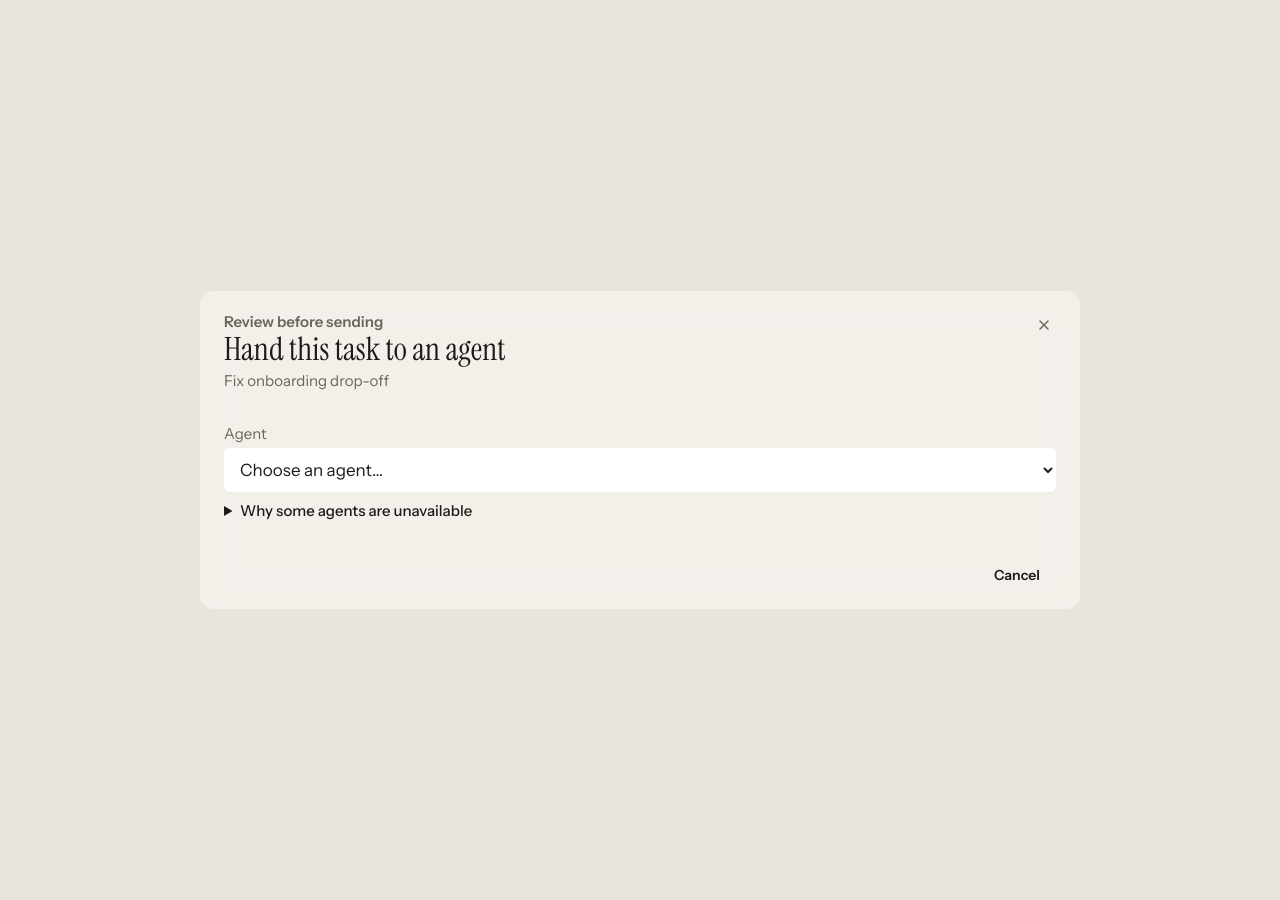
Test: AgentHandoffOverlay › 014-FR-005 keeps the primary hand-off path compact and reveals technical details on request
The width and height of the screenshot is (1280, 900).
Select "Hermes — Tested ready" in the dropdown labelled "Agent" at (640, 470), box [224,448,1056,492]
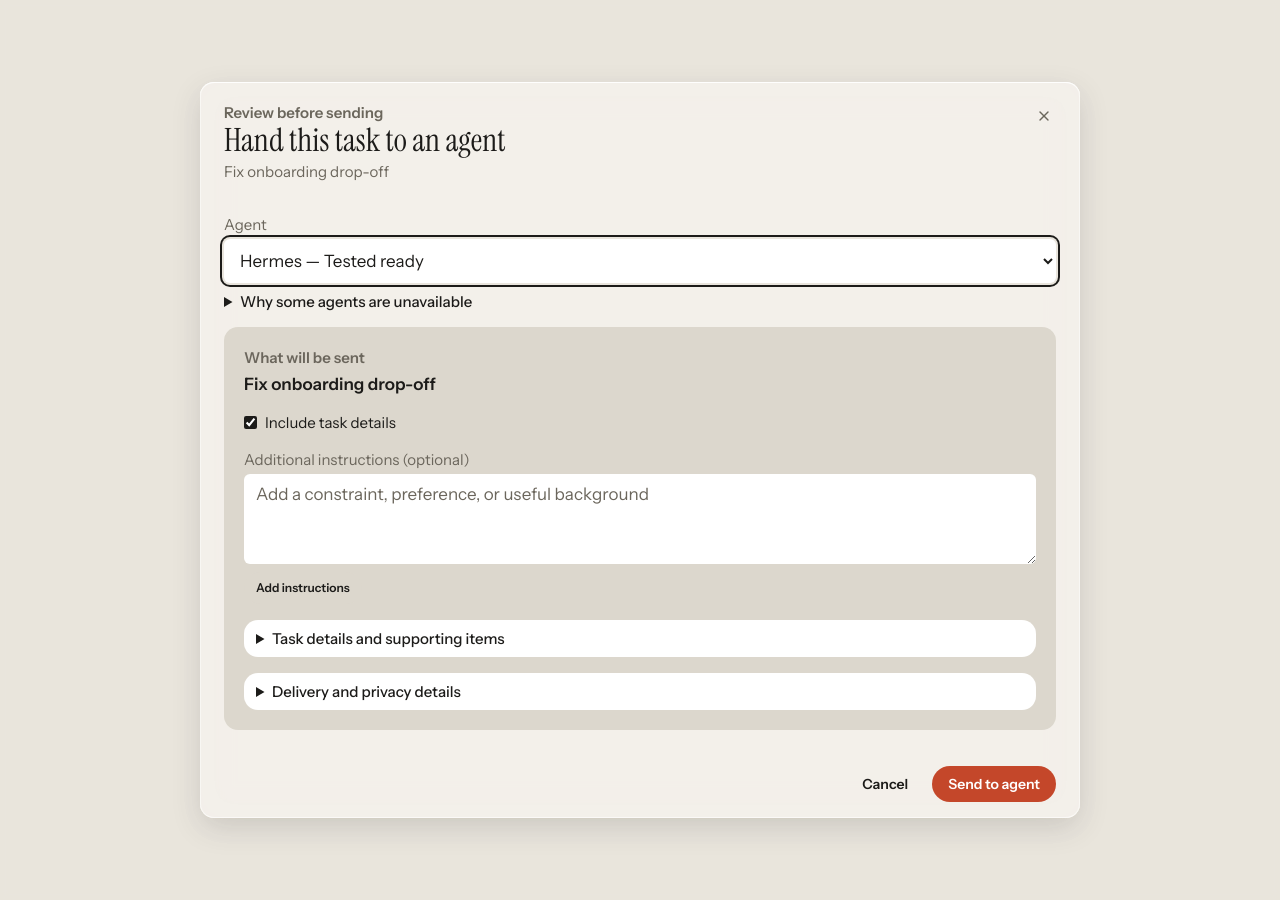
expect the heading "What will be sent" is shown: met, box [244,348,365,367]
expect the text box labelled "Additional instructions (optional)" is shown: met, box [244,474,1036,564]
expect the heading "Task details and supporting items" is shown: met, box [272,629,505,648]
